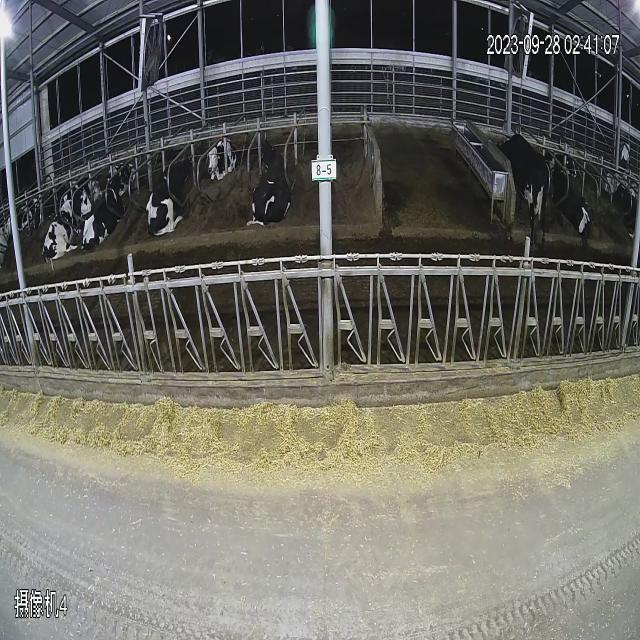lying down: (0, 113, 321, 270), (551, 103, 640, 283)
standing: (495, 88, 553, 269)
